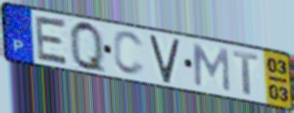C: (112, 30, 147, 78)
E: (34, 13, 71, 67)
M: (191, 42, 232, 95)
Q: (68, 19, 109, 77)
T: (231, 50, 260, 97)
V: (147, 34, 182, 85)
